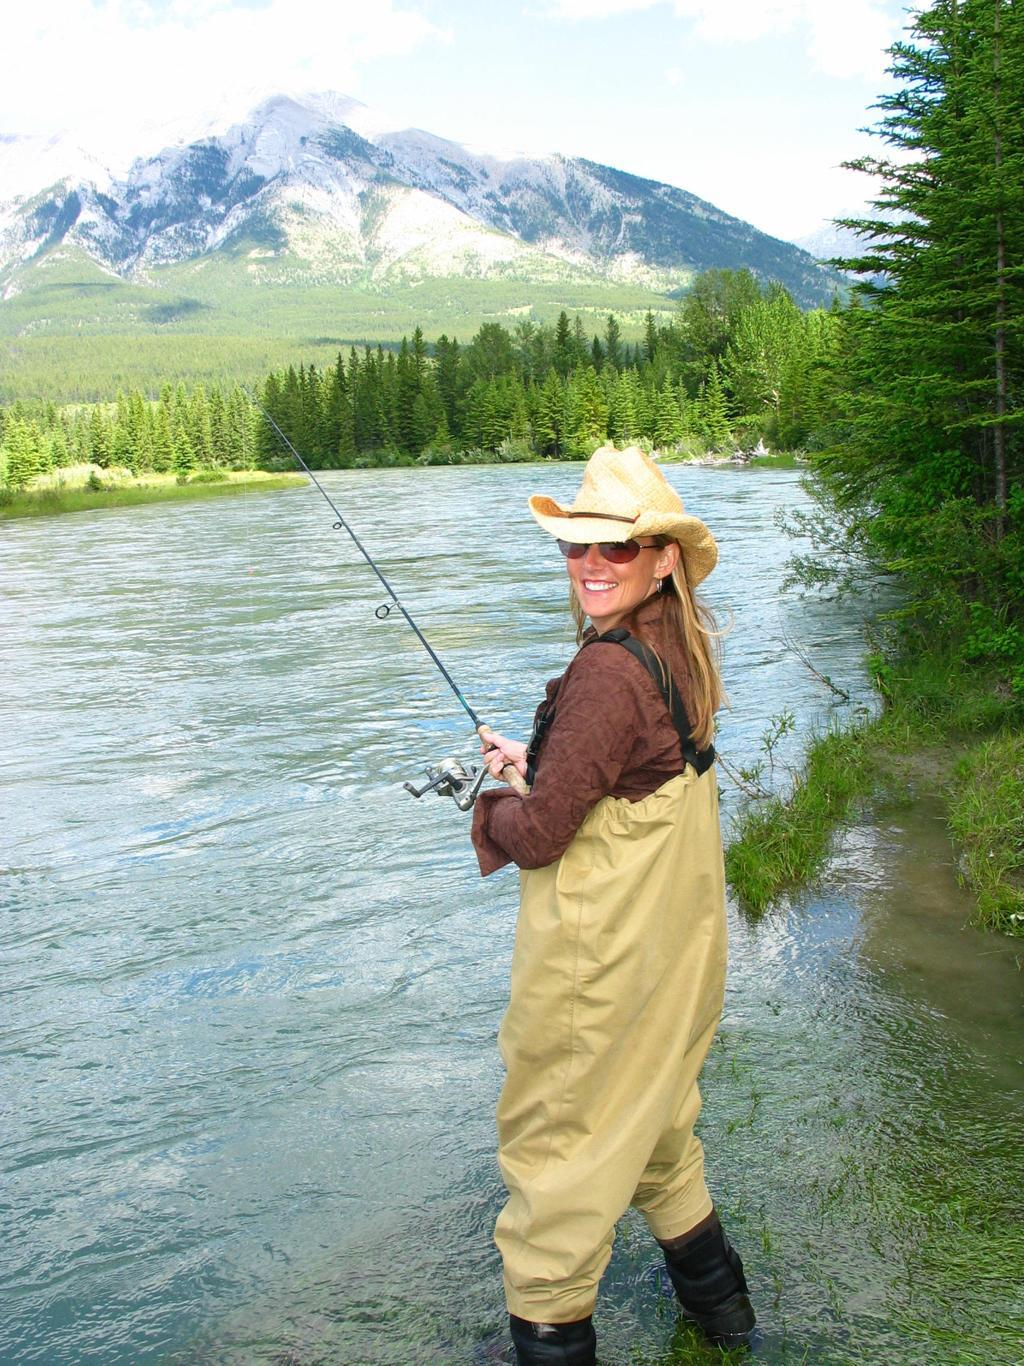face: (564, 518, 655, 614)
